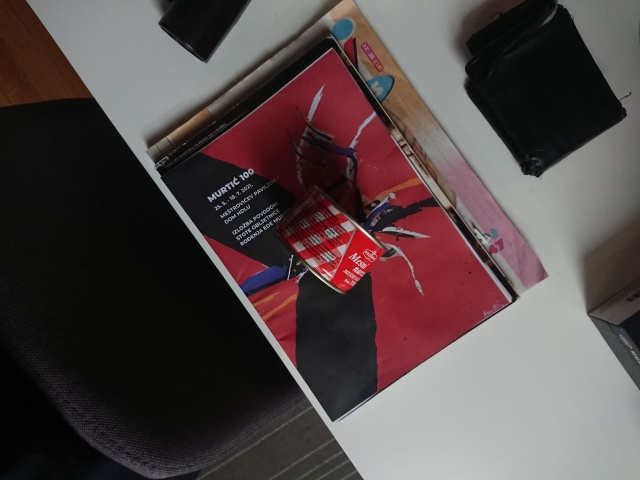Podravka Luncheon Meat 150g: (271, 181, 391, 298)
